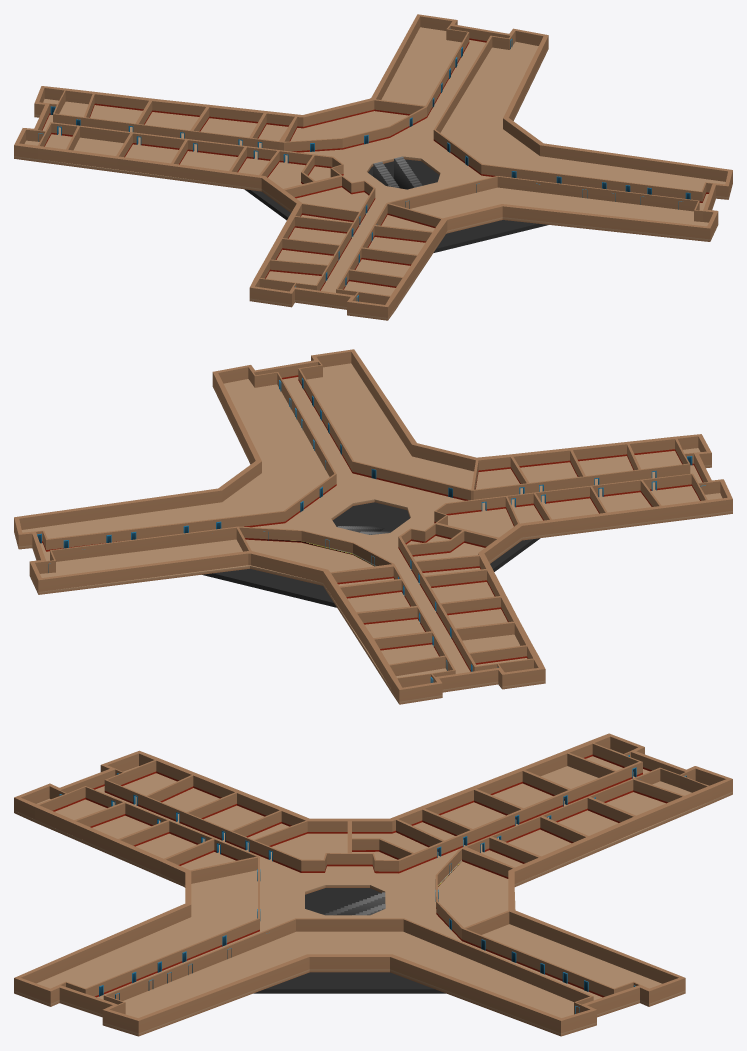
Rendered from SM_walls.fbx.
The picture shows the model from 3 angles, top to bottom: view 1: azimuth 30°, elevation 25°; view 2: azimuth 150°, elevation 25°; view 3: azimuth 270°, elevation 25°; orthographic projection. The views are drawn at different scales.
Visible parts, largest first — view 1: zemin; view 2: zemin; view 3: zemin.
Boxes of the visible parts, bbox=[...] form: zemin: bbox=[14, 14, 732, 320]; zemin: bbox=[14, 349, 732, 704]; zemin: bbox=[14, 733, 732, 1036].
Size of the model in its own units: 149 by 157 by 11.07.
